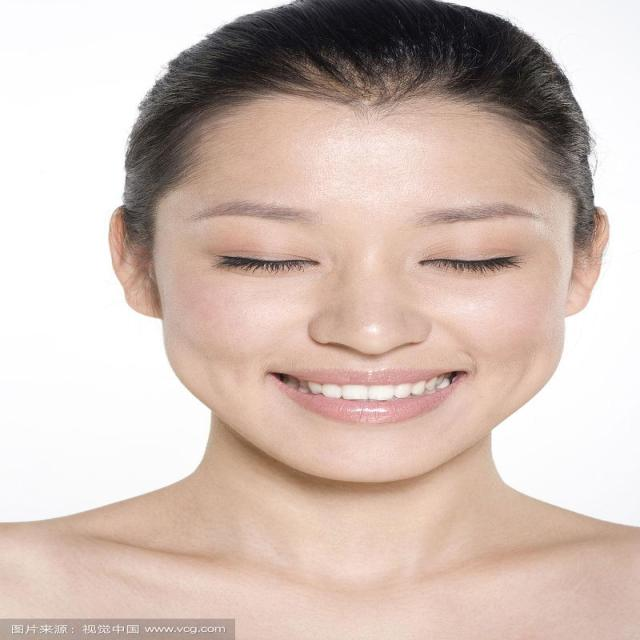Closed: (208, 249, 322, 276), (416, 249, 525, 276)
